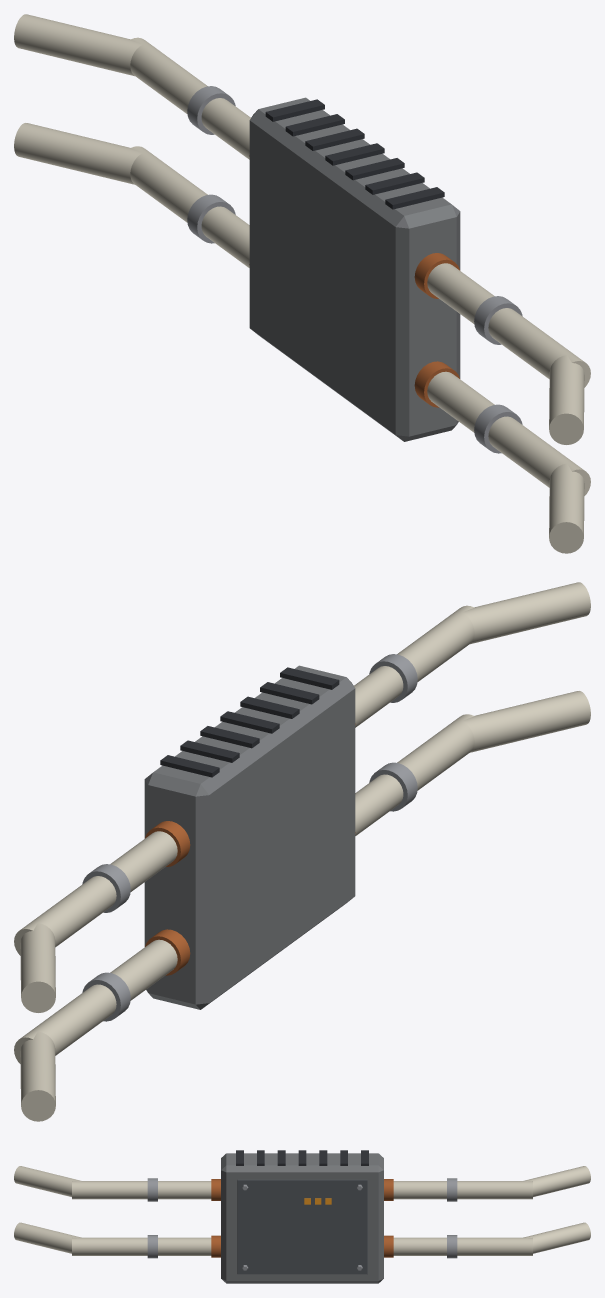
Rendered from er5_inverter.obj.
3 renders of one model, top to bottom at view 1: azimuth 30°, elevation 25°; view 2: azimuth 150°, elevation 25°; view 3: azimuth 270°, elevation 25°, orthographic. The views are drawn at different scales.
Parts seen in each view (by area): view 1: er5_inverter; view 2: er5_inverter; view 3: er5_inverter.
Part boxes in pixels (x1,y1,x2,y2): er5_inverter: (14,14,590,553); er5_inverter: (14,582,590,1121); er5_inverter: (14,1150,590,1283).
Bounding box in the file's own units: 0.5215 × 1.02 × 4.43.
